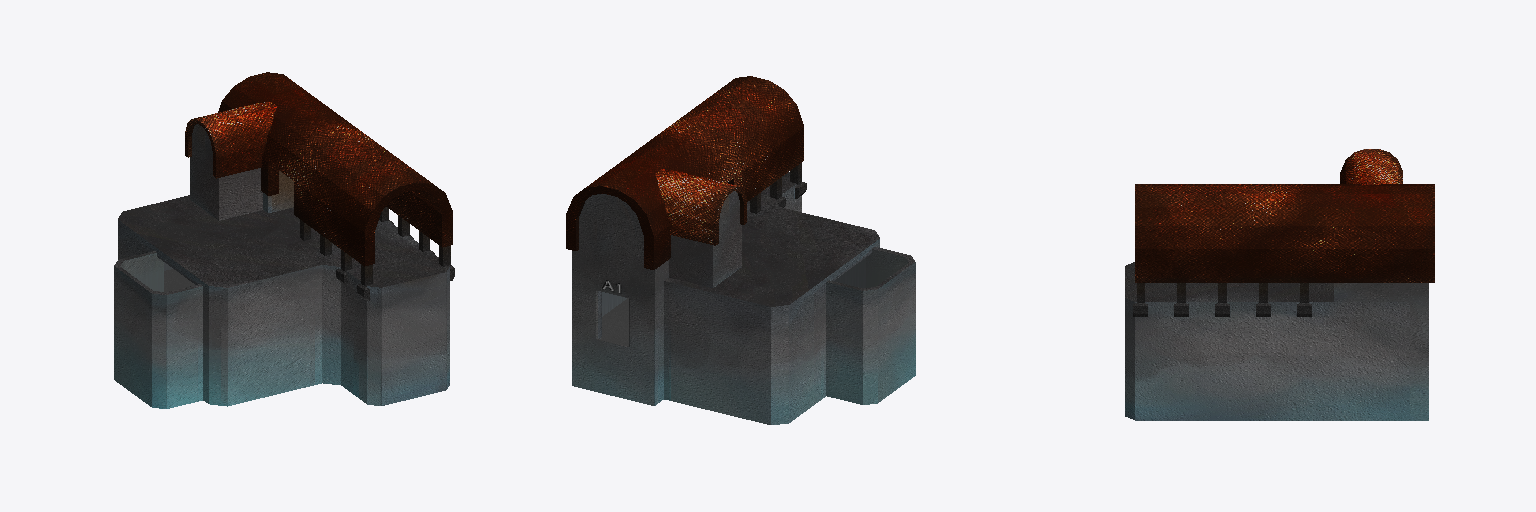
The picture shows the model from 3 angles: view 1: azimuth 30°, elevation 25°; view 2: azimuth 150°, elevation 25°; view 3: azimuth 270°, elevation 25°; orthographic projection.
Visible parts, largest first — view 1: Main_Lab_MainLab; view 2: Main_Lab_MainLab; view 3: Main_Lab_MainLab.
Boxes of the visible parts, box(x1,y1,x2,y2) form: Main_Lab_MainLab: box(114, 72, 454, 408); Main_Lab_MainLab: box(566, 76, 915, 424); Main_Lab_MainLab: box(1125, 149, 1434, 420).
Size of the model in its own units: 15.13 by 12.08 by 16.19.
Materials: 1 (1 with a texture image).